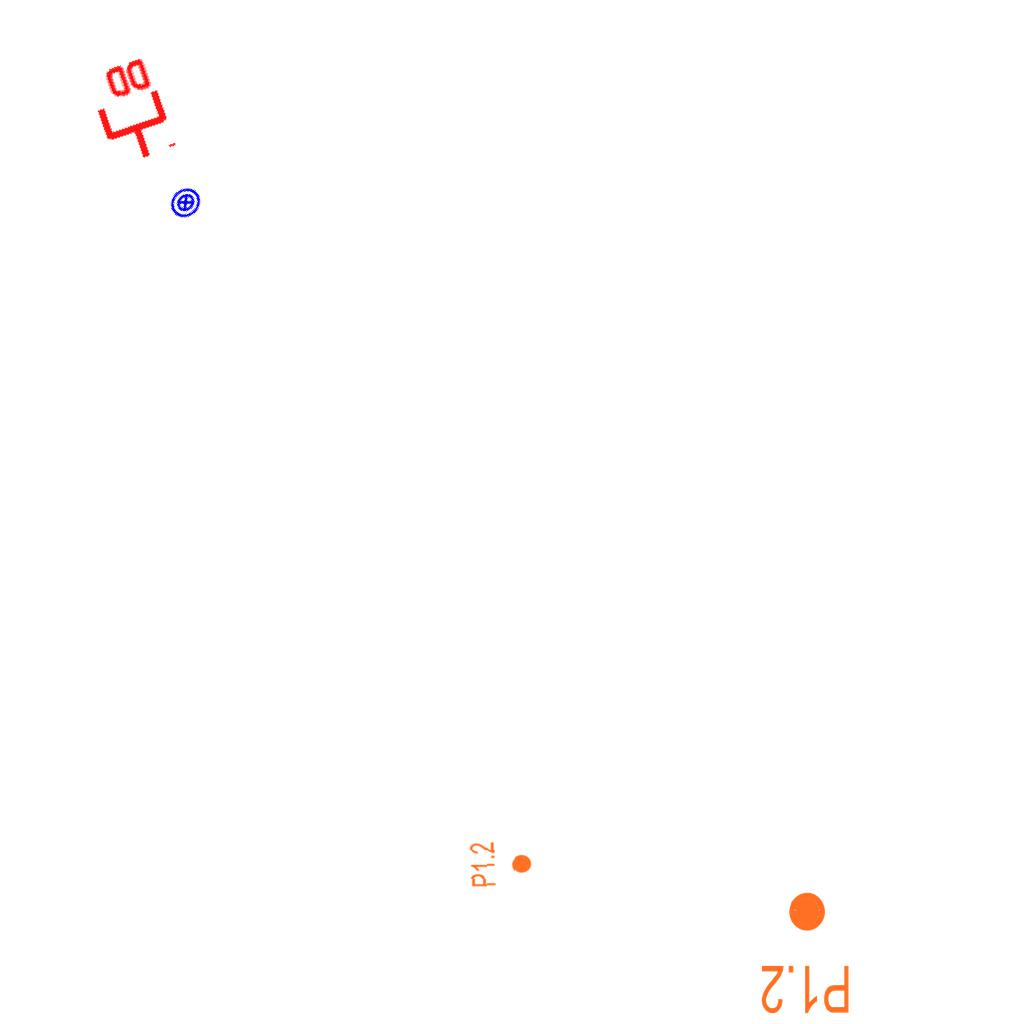Datenanschluss_zweifach: (80, 51, 179, 172)
Downlight_LED_Einbauleuchten_Flur: (759, 889, 852, 1017), (468, 839, 534, 889)
Taster_beleuchtet: (162, 179, 209, 226)
